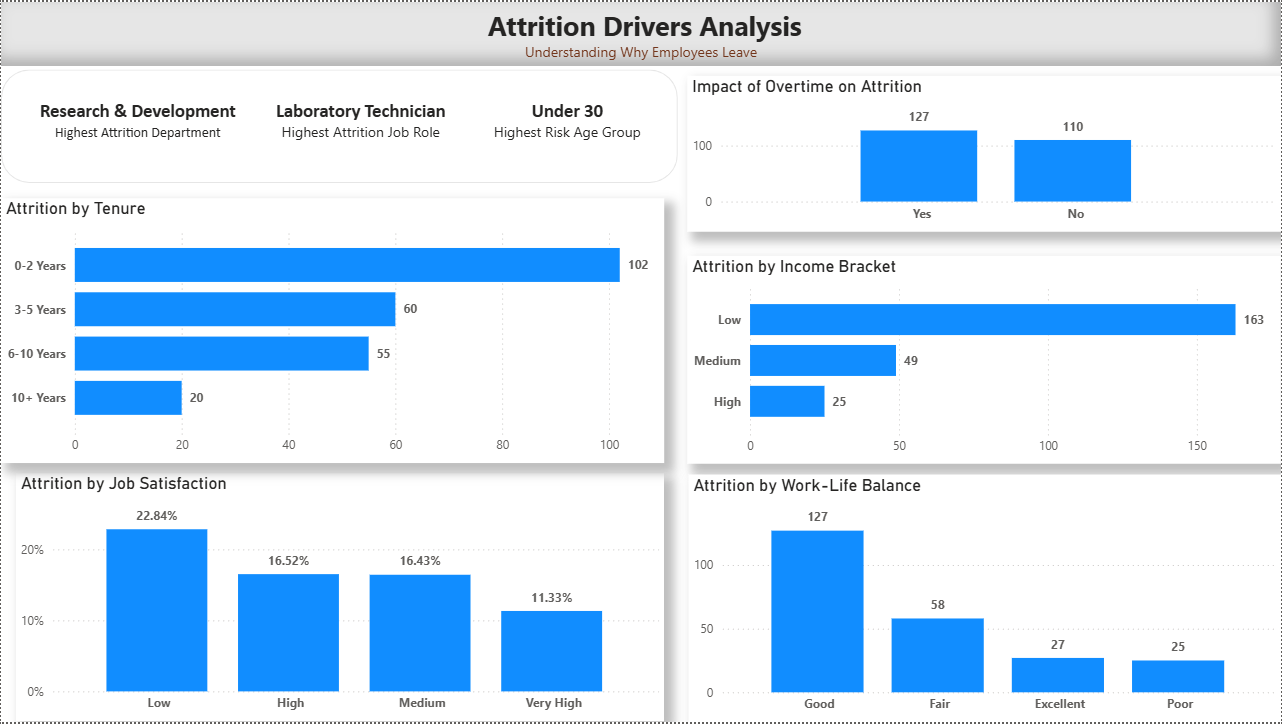

Layout of this report page (visuals, bound fields, positions):
{"tool":"powerbi","page":{"name":"Attrition Drivers Analysis","canvas":[1280,720],"ordinal":1},"visuals":[{"type":"textbox","box":[0,0,1280,63.8],"z":0},{"type":"textbox","box":[0,73.3,663.3,88.3],"z":1000},{"type":"shape","box":[0,67.1,676.8,113.4],"z":2000},{"type":"textbox","box":[26,85,221,79],"z":3000},{"type":"textbox","box":[261,85,197,79],"z":4000},{"type":"textbox","box":[471,85,190,79],"z":5000},{"type":"clusteredColumnChart","title":"Impact of Overtime on Attrition","fields":{"Category":["HR_Data.OverTime"],"Y":["HR_Data.Attrition Count"]},"box":[686,74,594,156],"z":6000},{"type":"clusteredBarChart","title":"Attrition by Income Bracket","fields":{"Category":["HR_Data.Income Bracket"],"Y":["HR_Data.Attrition Count"]},"box":[686.7,253.3,593.3,208.3],"z":7000},{"type":"clusteredColumnChart","title":"Attrition by Job Satisfaction","fields":{"Y":["HR_Data.Attrition Rate %"],"Category":["HR_Data.Satisfaction Level"]},"box":[15,471.7,648.3,248.3],"z":8000},{"type":"clusteredColumnChart","title":"Attrition by Work-Life Balance","fields":{"Y":["HR_Data.Attrition Count"],"Category":["HR_Data.Work Life Balance Level"]},"box":[687,472,593,248],"z":9000},{"type":"clusteredBarChart","title":"Attrition by Tenure","fields":{"Category":["HR_Data.Tenure Group"],"Y":["HR_Data.Attrition Count"]},"box":[0,196.7,663.3,265],"z":10000}]}

Visuals, with their boxes in screenshot pixels (x1, y1, x2, y2), scaled from the page's 1280x720 canvas onto the 1282x724 screenshot:
textbox: box(0, 0, 1281, 64)
textbox: box(0, 74, 664, 162)
shape: box(0, 67, 678, 182)
textbox: box(26, 85, 247, 165)
textbox: box(261, 85, 459, 165)
textbox: box(472, 85, 662, 165)
"Impact of Overtime on Attrition" clusteredColumnChart: box(687, 74, 1281, 231)
"Attrition by Income Bracket" clusteredBarChart: box(688, 255, 1281, 464)
"Attrition by Job Satisfaction" clusteredColumnChart: box(15, 474, 664, 723)
"Attrition by Work-Life Balance" clusteredColumnChart: box(688, 475, 1281, 723)
"Attrition by Tenure" clusteredBarChart: box(0, 198, 664, 464)
